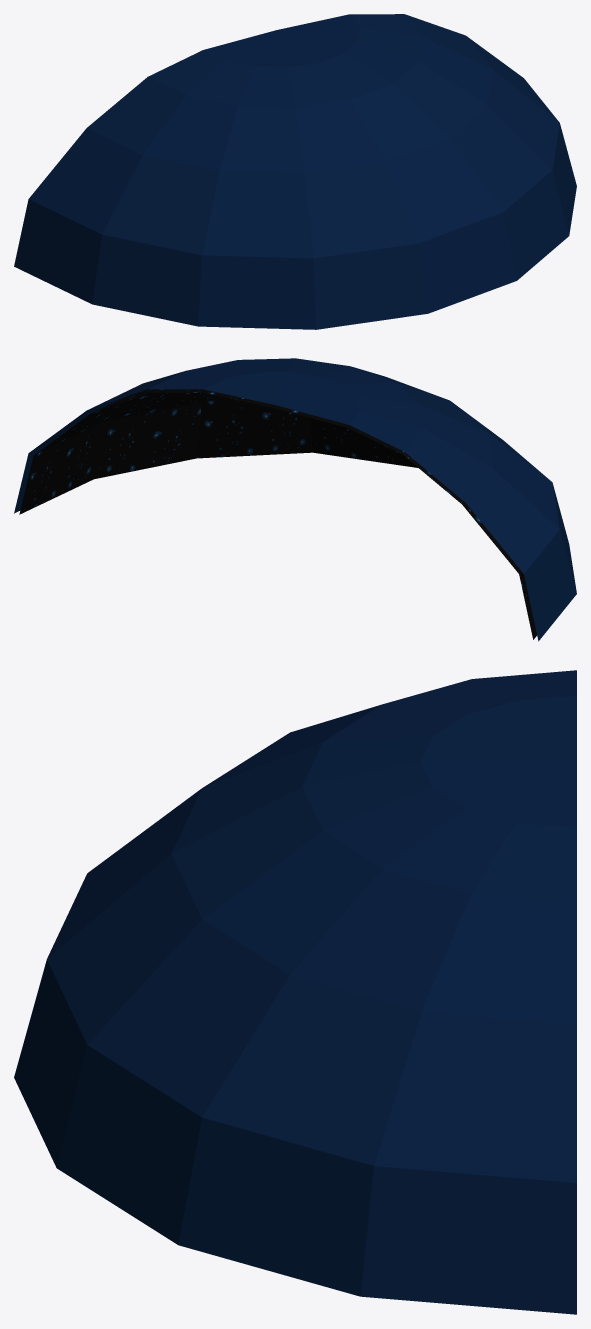
3 renders of one model, top to bottom at view 1: azimuth 30°, elevation 25°; view 2: azimuth 150°, elevation 25°; view 3: azimuth 270°, elevation 25°, orthographic. The views are drawn at different scales.
Parts seen in each view (by area): view 1: SK0_polySurface0; view 2: SK0_polySurface0, SK0_polySurface1, SK0_polySurface2; view 3: SK0_polySurface0.
Part boxes in pixels (x1,y1,x2,y2): SK0_polySurface0: [14, 14, 576, 329]; SK0_polySurface0: [14, 358, 576, 641]; SK0_polySurface1: [19, 389, 536, 639]; SK0_polySurface2: [205, 390, 349, 427]; SK0_polySurface0: [14, 670, 576, 1314].
Bounding box in the file's own units: 103909 × 32640 × 52124.
Materials: 2 (2 with a texture image).
